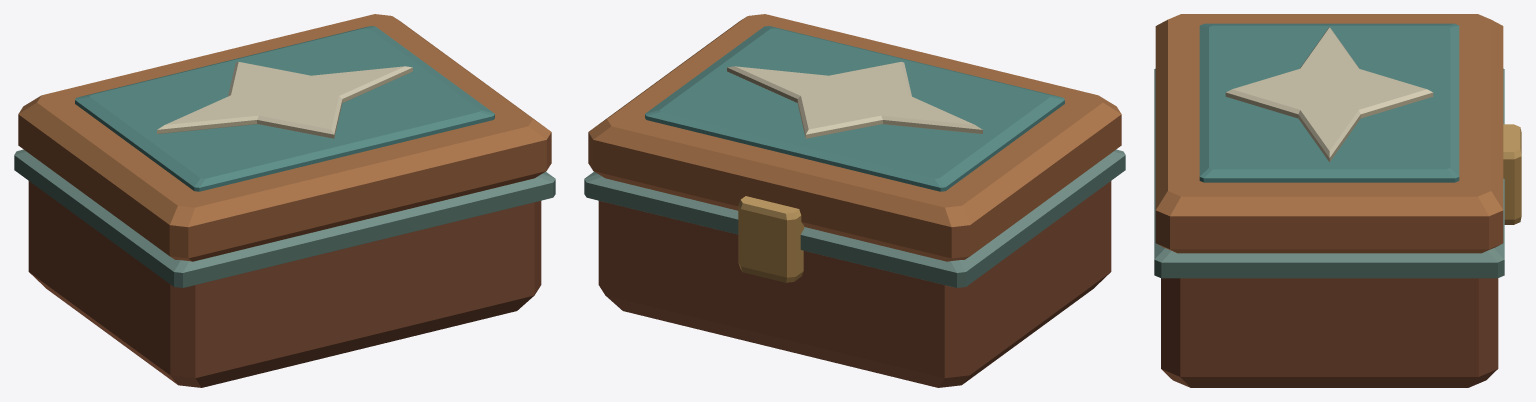
The model's file is salzsee_25.glb.
3 views of the same model, side by side, from view 1: azimuth 30°, elevation 25°; view 2: azimuth 150°, elevation 25°; view 3: azimuth 270°, elevation 25° (orthographic). The views are drawn at different scales.
Visible parts, largest first — view 1: salzsee_25; view 2: salzsee_25; view 3: salzsee_25.
Boxes of the visible parts, bbox=[...] form: salzsee_25: bbox=[14, 14, 555, 387]; salzsee_25: bbox=[584, 14, 1125, 387]; salzsee_25: bbox=[1154, 14, 1521, 387].
Size of the model in its own units: 2 by 0.9978 by 1.58.
